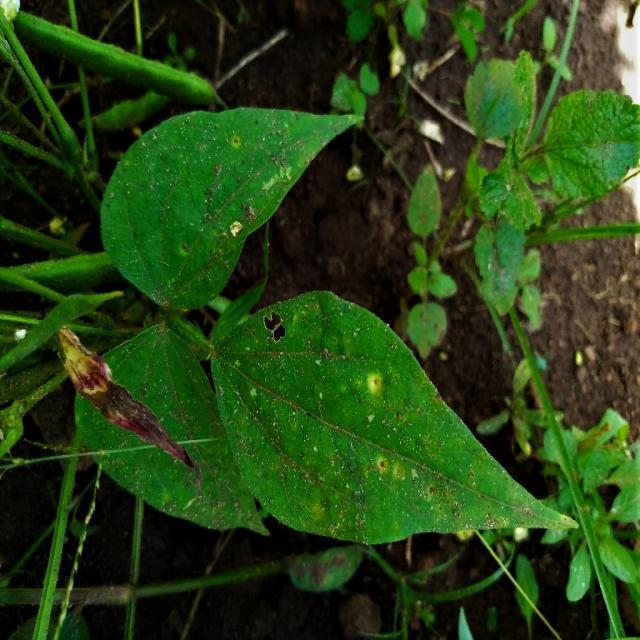hawar: (360, 360, 451, 502), (171, 169, 276, 249), (243, 299, 335, 370)
